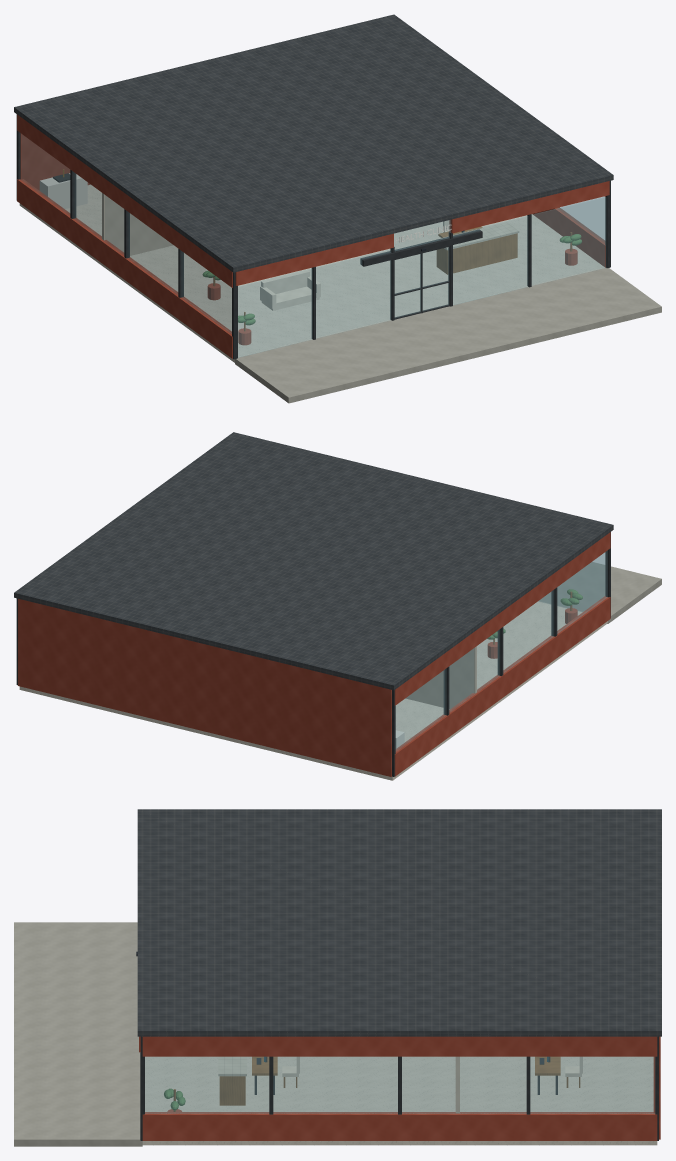
File: 36_Health_Clinic_LOD1.glb
3 views of the same model, one above another, from view 1: azimuth 30°, elevation 25°; view 2: azimuth 150°, elevation 25°; view 3: azimuth 270°, elevation 25° (orthographic). The views are drawn at different scales.
Visible parts, largest first — view 1: Roof, Approach, Floor, Front glazing, Front glazing.001, Side glazing, Side base wall, Side upper wall, Front band.001, Front band, Internal partition, Service counter (+11 smaller); view 2: Roof, Rear wall, Side glazing, Floor, Side base wall, Side upper wall, Approach, Internal partition, Front glazing; view 3: Roof, Side glazing.001, Approach, Floor, Side base wall.001, Side upper wall.001, Service counter, Stone countertop.
Part boxes in pixels (x1=…): Roof: x1=14, y1=14, x2=613, y2=272; Approach: x1=235, y1=268, x2=661, y2=403; Floor: x1=19, y1=184, x2=605, y2=362; Front glazing: x1=238, y1=249, x2=391, y2=357; Front glazing.001: x1=453, y1=197, x2=606, y2=304; Side glazing: x1=20, y1=133, x2=231, y2=333; Side base wall: x1=17, y1=179, x2=232, y2=358; Side upper wall: x1=17, y1=114, x2=232, y2=287; Front band.001: x1=449, y1=181, x2=609, y2=233; Front band: x1=235, y1=233, x2=393, y2=285; Internal partition: x1=102, y1=193, x2=172, y2=255; Service counter: x1=436, y1=233, x2=517, y2=274; Roof: x1=14, y1=432, x2=613, y2=690; Rear wall: x1=18, y1=598, x2=391, y2=776; Side glazing: x1=396, y1=551, x2=607, y2=751; Floor: x1=19, y1=601, x2=607, y2=780; Side base wall: x1=394, y1=596, x2=610, y2=776; Side upper wall: x1=394, y1=532, x2=610, y2=705; Approach: x1=539, y1=562, x2=661, y2=623; Internal partition: x1=405, y1=646, x2=476, y2=708; Front glazing: x1=539, y1=553, x2=604, y2=611; Roof: x1=137, y1=809, x2=661, y2=1036; Side glazing.001: x1=145, y1=1057, x2=654, y2=1113; Approach: x1=14, y1=922, x2=142, y2=1146; Floor: x1=142, y1=1056, x2=657, y2=1145; Side base wall.001: x1=142, y1=1112, x2=657, y2=1140; Side upper wall.001: x1=142, y1=1036, x2=657, y2=1056; Service counter: x1=219, y1=1076, x2=245, y2=1105; Stone countertop: x1=218, y1=1056, x2=246, y2=1076.
Size of the model in its own units: 16.3 by 4.04 by 20.15.
Materials: 17 (11 with a texture image).
